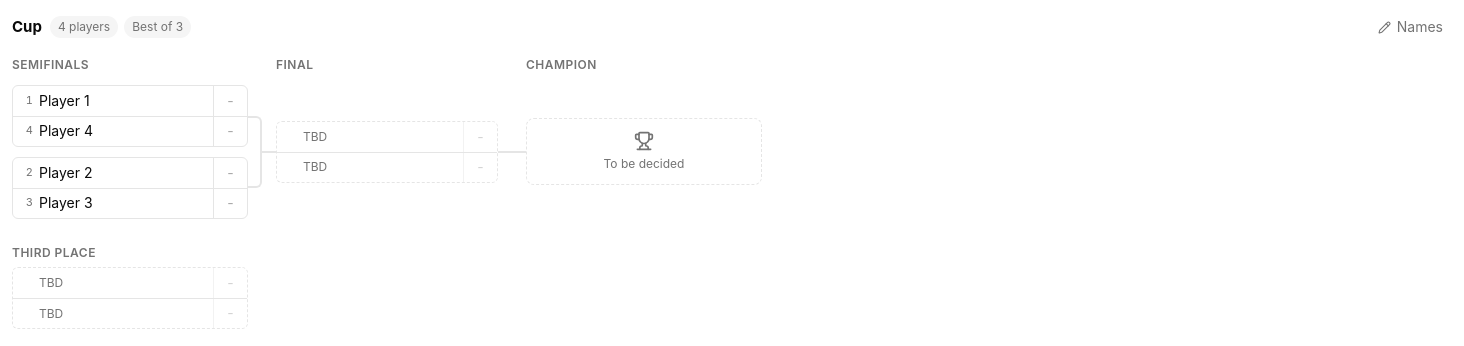
Test: Bracket › picks winners through to a champion, then changes an early result
The width and height of the screenshot is (1464, 346).
Click the button "1 Player 1" at (113, 101), box [13, 86, 213, 116]
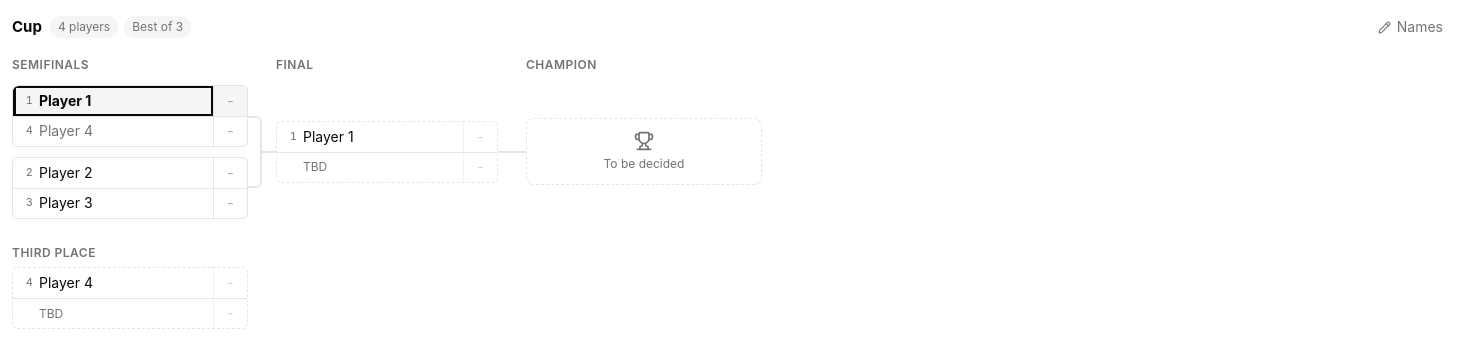
Click the button "3 Player 3" at (113, 203), box [13, 189, 213, 218]
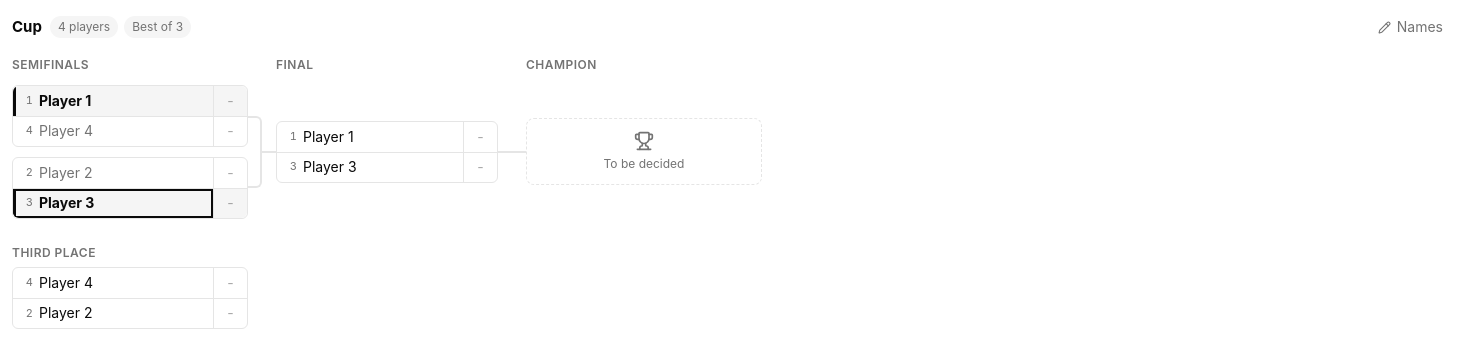
Click the 1st button "3 Player 3" at (370, 167), box [277, 153, 463, 182]
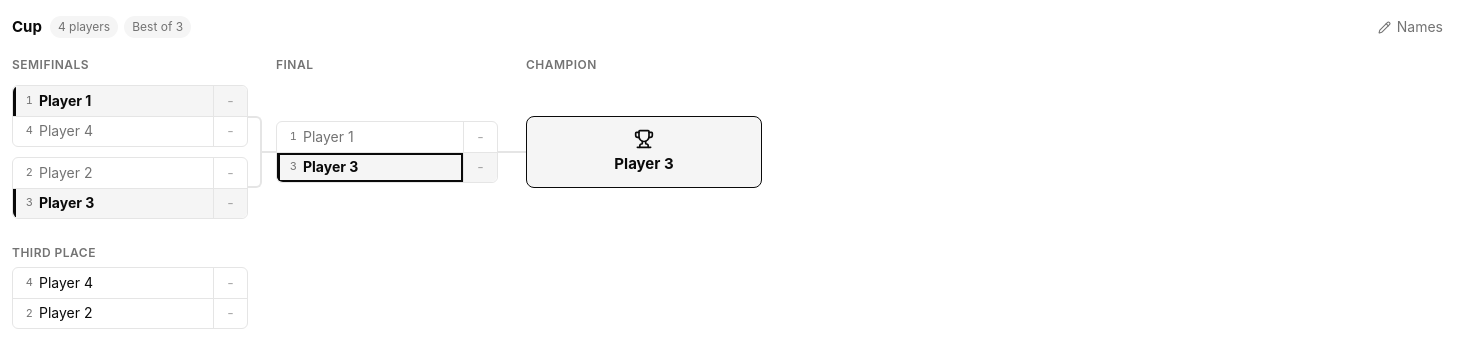
Expected: the text with class "bk-name" below "Semifinals" reads "Player 3", [39, 194, 94, 211]
Note: the first semifinal went the other way after all
Click the button "4 Player 4" below "Semifinals" at (113, 131), box [13, 117, 213, 146]
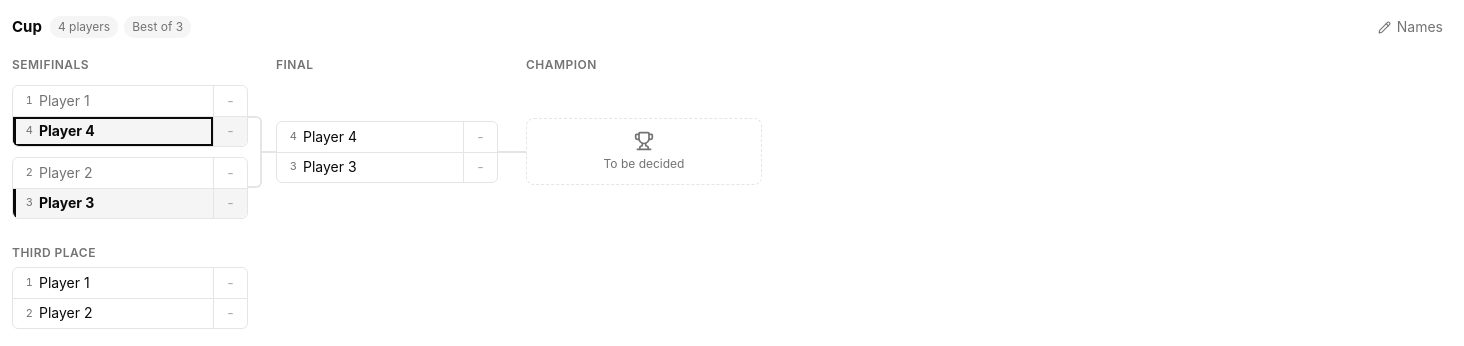
Now the text with class "bk-champ-name" reads "To be decided", box [604, 156, 684, 171]
Click the 2nd button "4 Player 4" at (370, 137), box [277, 122, 463, 152]
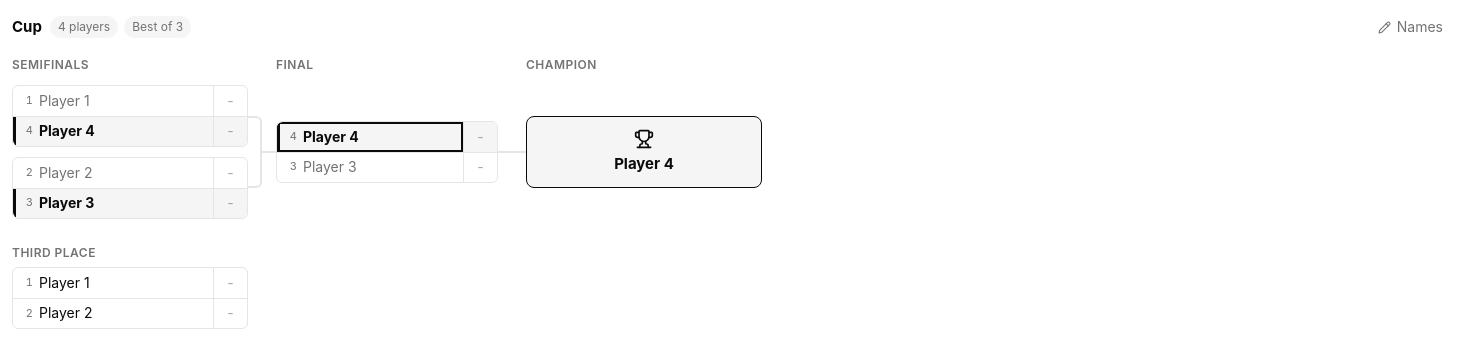
Expected: the text with class "bk-name" below "Semifinals" reads "Player 4", [39, 122, 95, 139]
Note: tapping the winner again clears the result
Click the 2nd button "4 Player 4" at (370, 137), box [277, 122, 463, 152]
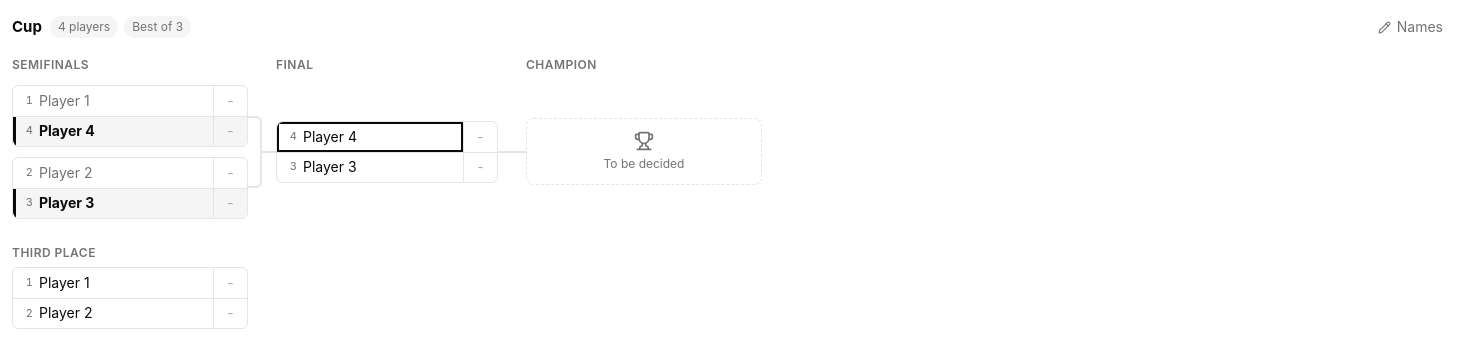
Now the text with class "bk-champ-name" reads "To be decided", box [604, 156, 684, 171]
